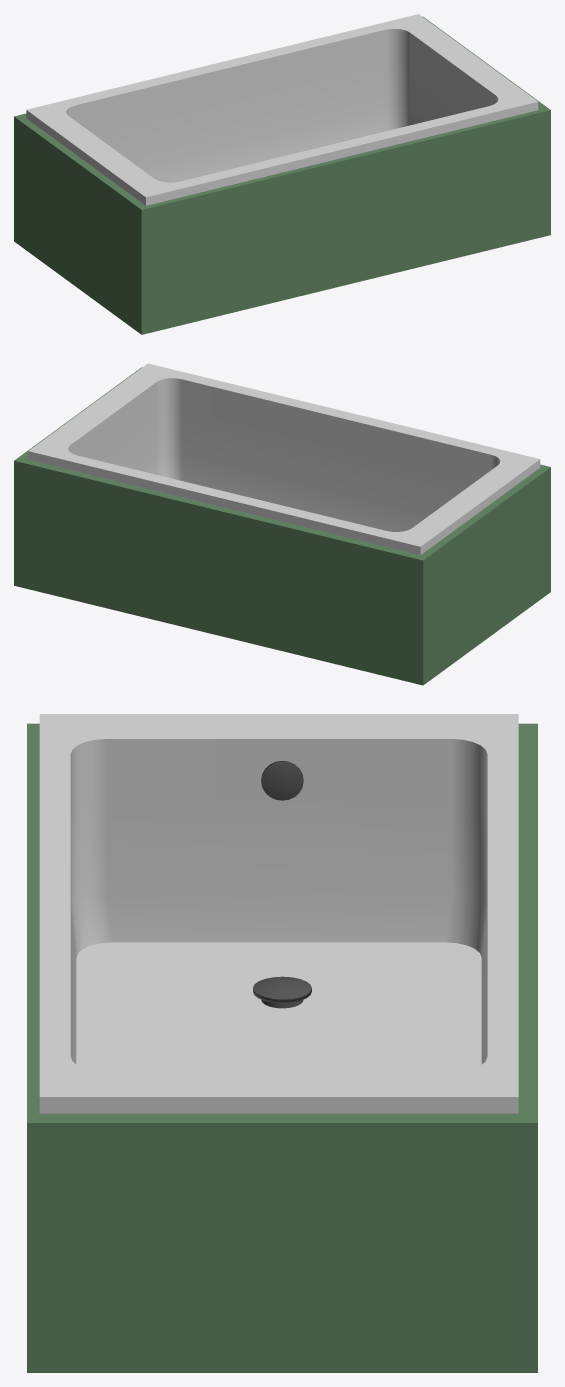
Rendered from B_Bathtub.fbx.
The picture shows the model from 3 angles, top to bottom: view 1: azimuth 30°, elevation 25°; view 2: azimuth 150°, elevation 25°; view 3: azimuth 270°, elevation 25°; orthographic projection. The views are drawn at different scales.
Visible parts, largest first — view 1: B_bathtub; view 2: B_bathtub; view 3: B_bathtub.
Boxes of the visible parts, bbox=[...] form: B_bathtub: bbox=[14, 14, 550, 334]; B_bathtub: bbox=[14, 363, 550, 685]; B_bathtub: bbox=[27, 714, 537, 1372].
Bounding box in the file's own units: 185 × 57.6 × 100.
